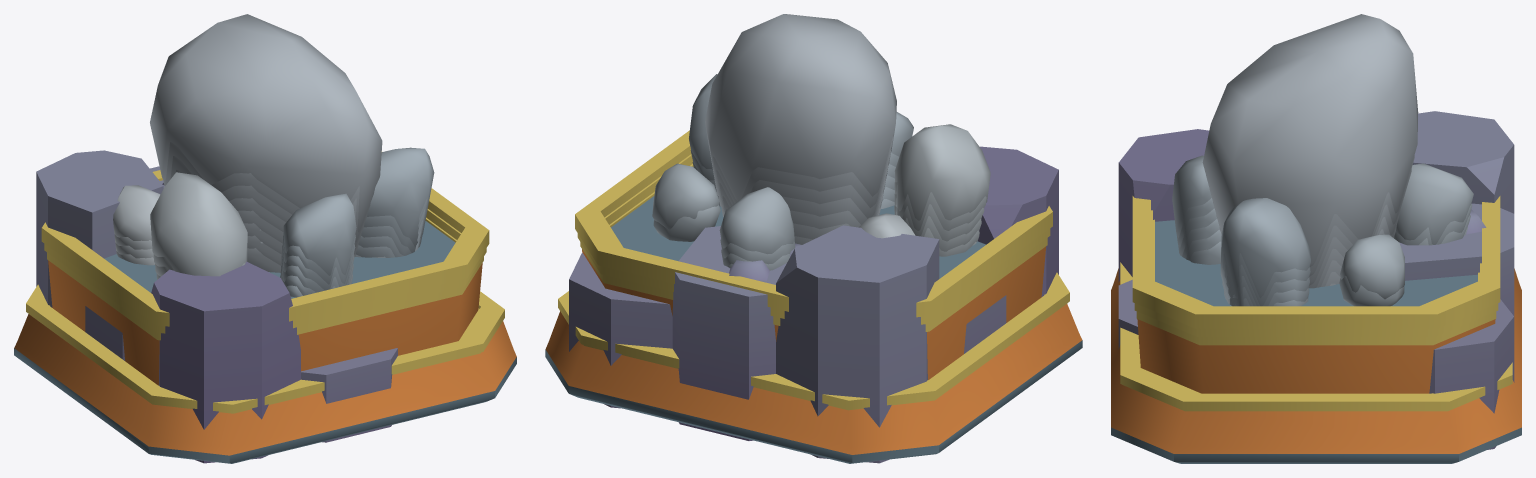
The model's file is quarry.glb.
3 views of the same model, side by side, from view 1: azimuth 30°, elevation 25°; view 2: azimuth 150°, elevation 25°; view 3: azimuth 270°, elevation 25° (orthographic). The views are drawn at different scales.
Visible parts, largest first — view 1: upgrade_quarry_l8, rocks-ramp, upgrade_quarry_l7, upgrade_quarry_l6, upgrade_quarry_l5, upgrade_quarry_l4, upgrade_quarry_l3; view 2: upgrade_quarry_l8, rocks-ramp, upgrade_quarry_l7, upgrade_quarry_l6, upgrade_quarry_l5, upgrade_quarry_l4, upgrade_quarry_l3; view 3: upgrade_quarry_l8, rocks-ramp, upgrade_quarry_l7, upgrade_quarry_l6, upgrade_quarry_l5, upgrade_quarry_l4, upgrade_quarry_l3.
Part boxes in pixels (x1=…): upgrade_quarry_l8: x1=14, y1=14, x2=516, y2=463; rocks-ramp: x1=36, y1=150, x2=397, y2=463; upgrade_quarry_l7: x1=30, y1=142, x2=486, y2=413; upgrade_quarry_l6: x1=47, y1=156, x2=483, y2=340; upgrade_quarry_l5: x1=116, y1=170, x2=422, y2=292; upgrade_quarry_l4: x1=238, y1=210, x2=420, y2=295; upgrade_quarry_l3: x1=243, y1=223, x2=418, y2=297; upgrade_quarry_l8: x1=545, y1=14, x2=1082, y2=463; rocks-ramp: x1=569, y1=146, x2=1058, y2=463; upgrade_quarry_l7: x1=577, y1=136, x2=1064, y2=410; upgrade_quarry_l6: x1=580, y1=150, x2=1047, y2=331; upgrade_quarry_l5: x1=717, y1=164, x2=981, y2=268; upgrade_quarry_l4: x1=719, y1=178, x2=979, y2=256; upgrade_quarry_l3: x1=725, y1=192, x2=976, y2=245; upgrade_quarry_l8: x1=1111, y1=14, x2=1521, y2=463; rocks-ramp: x1=1118, y1=111, x2=1514, y2=449; upgrade_quarry_l7: x1=1123, y1=155, x2=1509, y2=411; upgrade_quarry_l6: x1=1136, y1=169, x2=1496, y2=345; upgrade_quarry_l5: x1=1182, y1=202, x2=1467, y2=306; upgrade_quarry_l4: x1=1186, y1=215, x2=1396, y2=306; upgrade_quarry_l3: x1=1190, y1=228, x2=1341, y2=306.
Bounding box in the file's own units: 1.58 × 1.33 × 1.44.
Materials: 2 (1 with a texture image).
